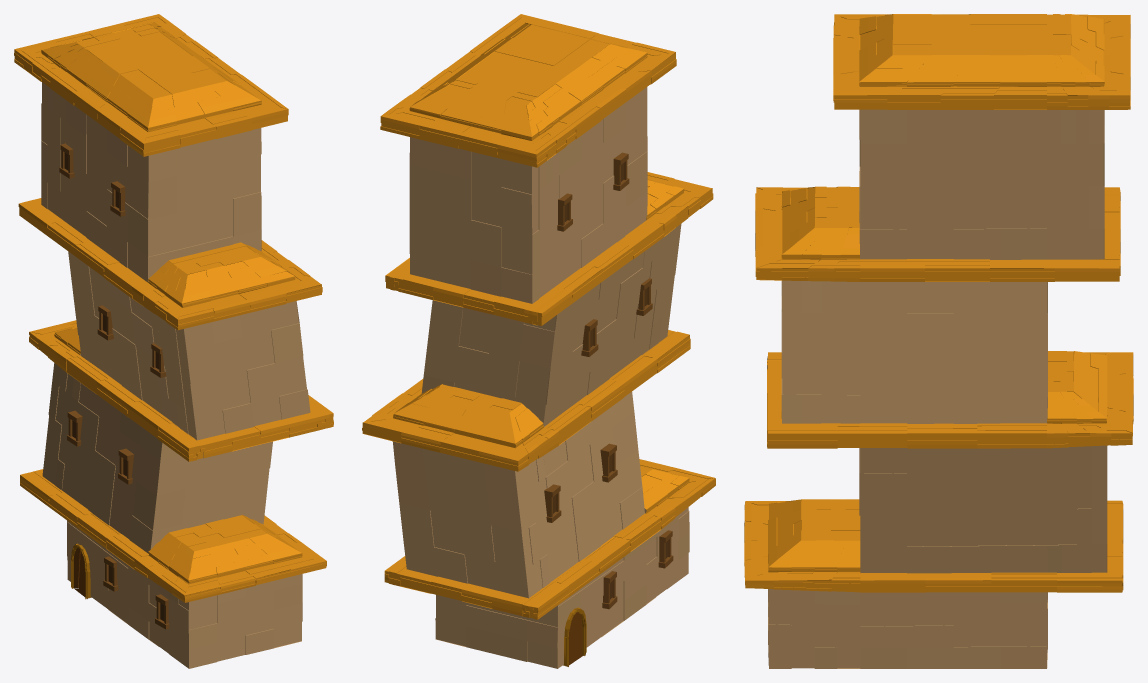
Rendered from Apartment_Building_13.fbx.
3 views of the same model, side by side, from view 1: azimuth 30°, elevation 25°; view 2: azimuth 150°, elevation 25°; view 3: azimuth 270°, elevation 25° (orthographic). The views are drawn at different scales.
Parts seen in each view (by area): view 1: Cube, Cube.427, Cube.003; view 2: Cube, Cube.427, Cube.003, Cube.002, Cube.007; view 3: Cube.
Part boxes in pixels (x1,y1,x2,y2): Cube: (14, 14, 333, 668); Cube.427: (71, 543, 91, 599); Cube.003: (118, 448, 134, 484); Cube: (362, 14, 715, 668); Cube.427: (563, 607, 586, 666); Cube.003: (600, 443, 617, 482); Cube.002: (544, 484, 561, 522); Cube.007: (613, 152, 629, 190); Cube: (744, 14, 1133, 668).
Bounding box in the file's own units: 973 × 3048 × 1774.
